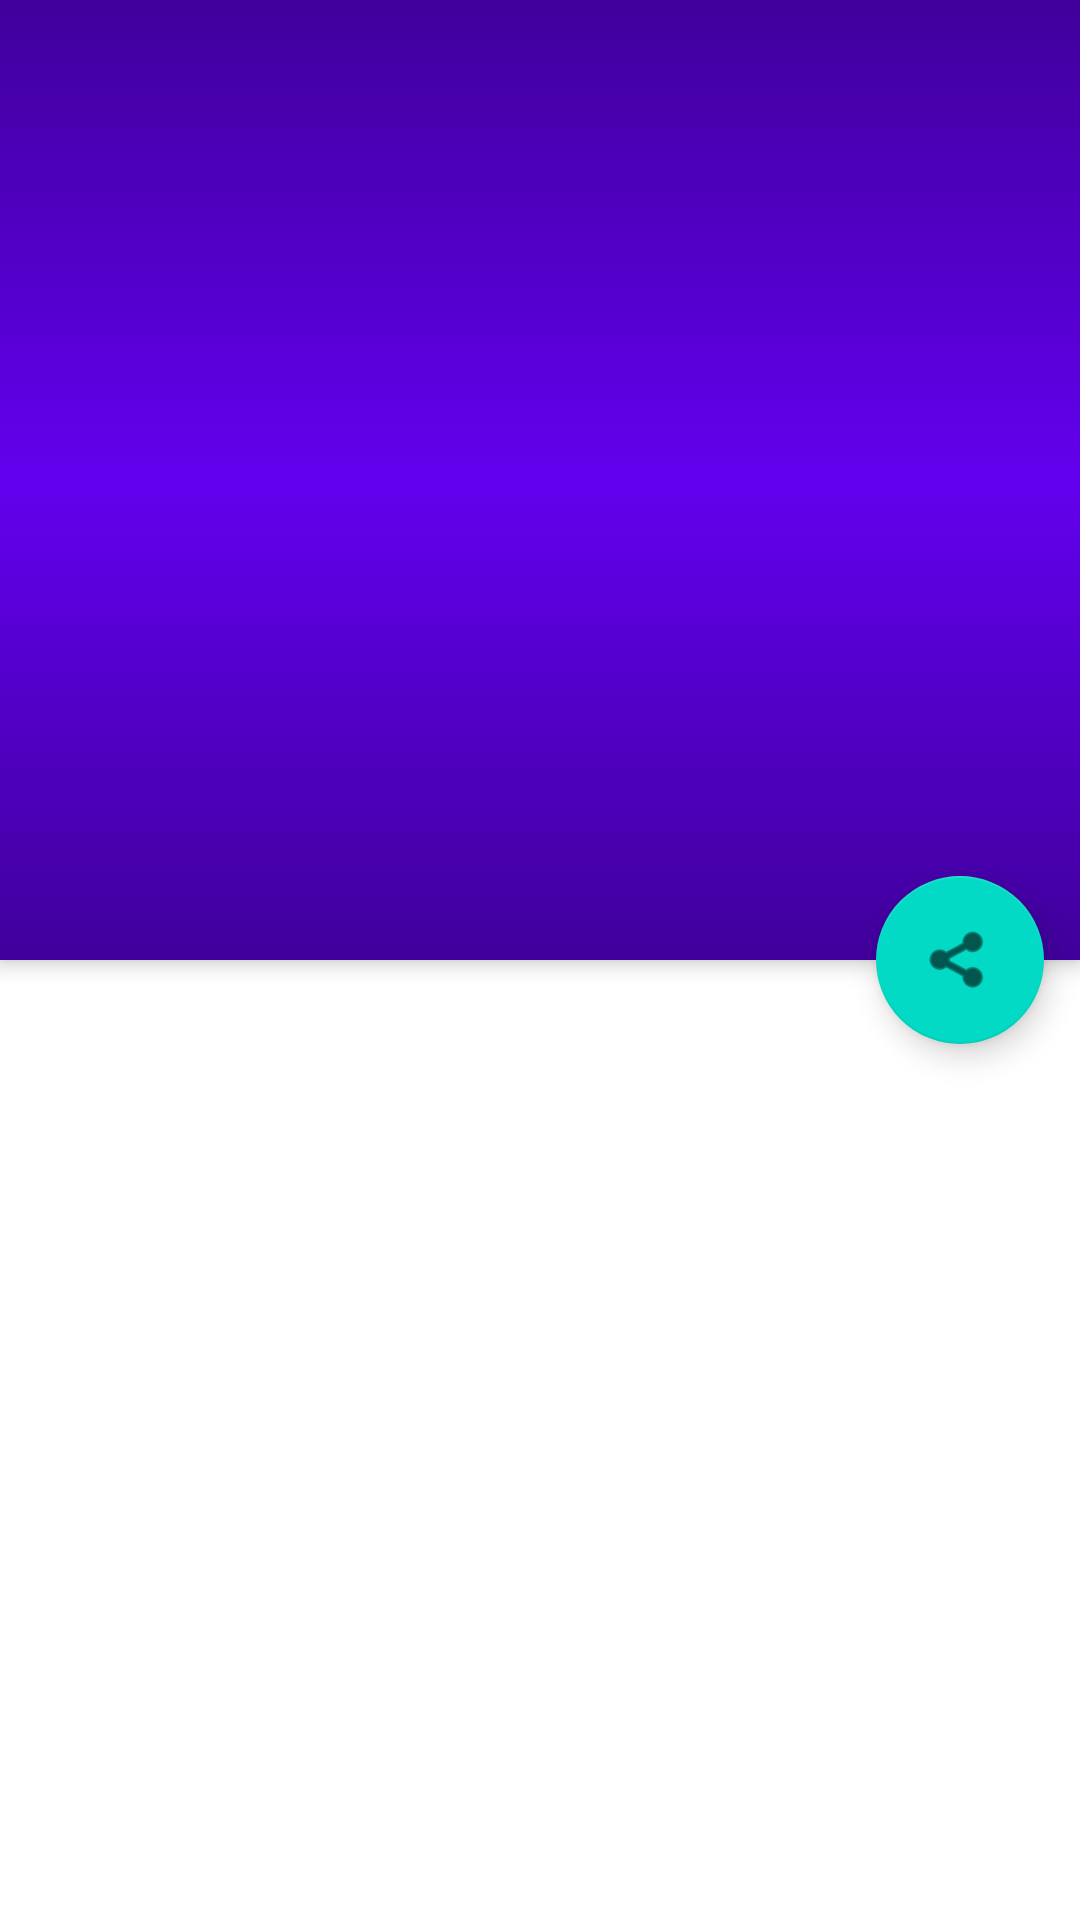

Screen size 1080x1920. Icon name, then its center in pixels as [x,y]:
share: [960,960]
